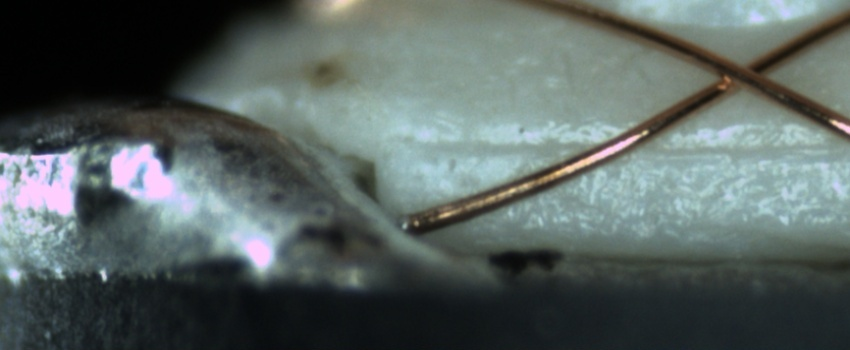CL: (693, 41, 788, 101)
DL: (416, 121, 850, 185)
